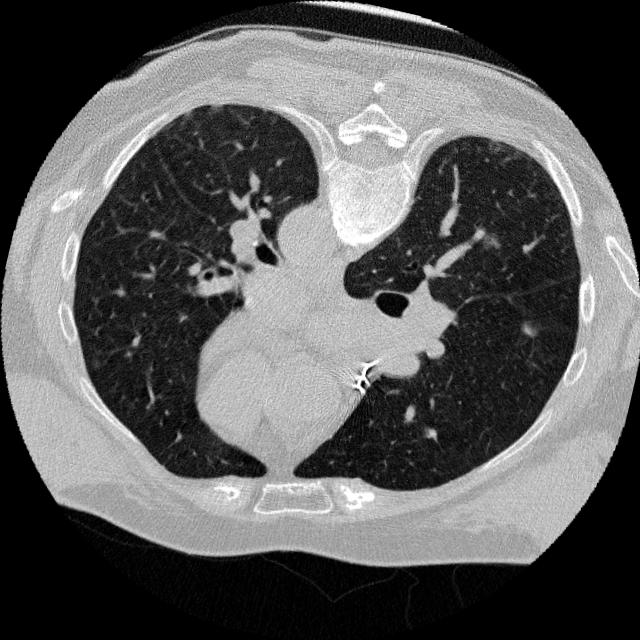nodule: (468, 218, 514, 264)
